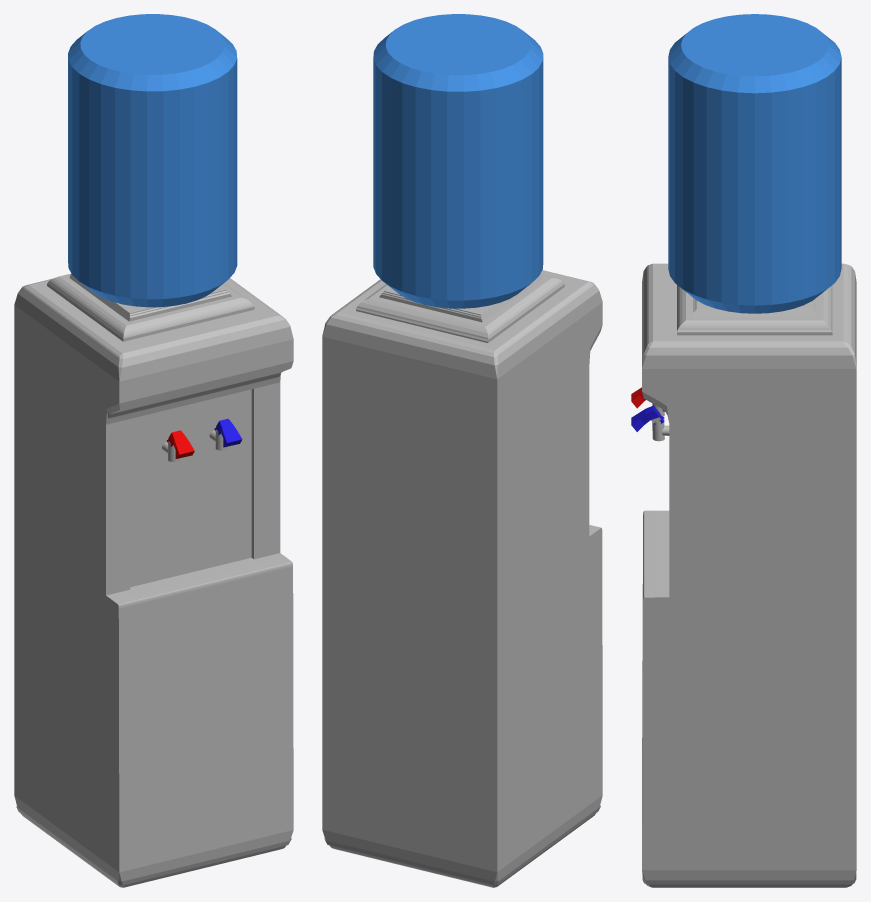
The model's file is WaterCooler.fbx.
3 renders of one model, left to right at view 1: azimuth 30°, elevation 25°; view 2: azimuth 150°, elevation 25°; view 3: azimuth 270°, elevation 25°, orthographic. The views are drawn at different scales.
Parts seen in each view (by area): view 1: WaterCooler; view 2: WaterCooler; view 3: WaterCooler.
Part boxes in pixels (left/top/right/bottom): WaterCooler: left=14, top=14, right=293, bottom=887; WaterCooler: left=322, top=14, right=602, bottom=887; WaterCooler: left=631, top=14, right=856, bottom=887.
Size of the model in its own units: 32 by 138 by 35.05.
